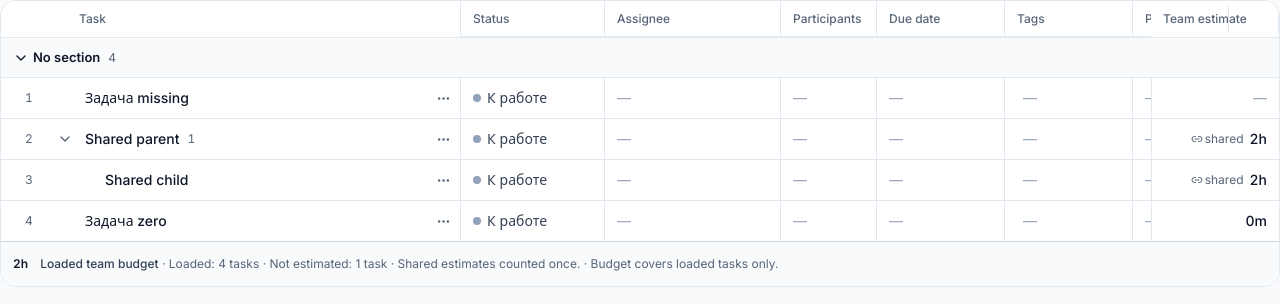
Test case: keeps deduplicated loaded scope, shared estimates counted once and missing estimates separate from known zero
The width and height of the screenshot is (1280, 304).
expect the text "2h" next to "Loaded team budget" is shown: met, box [13, 256, 28, 271]
expect the text "Loaded team budget" shows "Loaded: 4 tasks": met, box [162, 256, 259, 271]
Click the button named "Collapse subtasks of “Shared parent”" at {"x": 65, "y": 139}, box [53, 127, 77, 151]
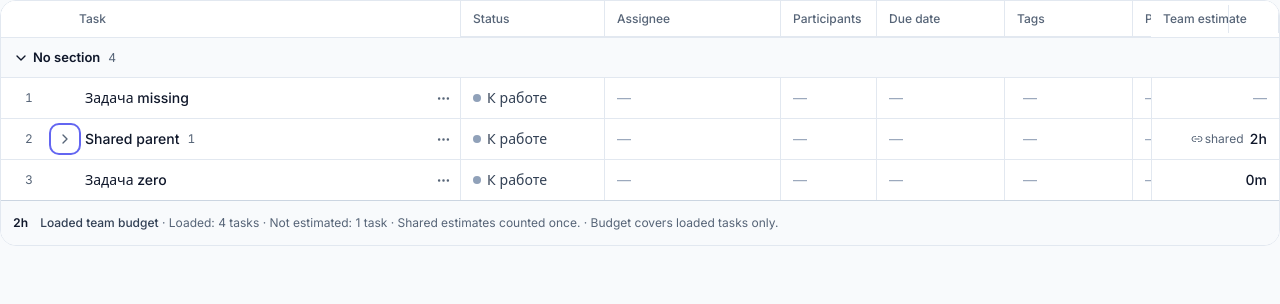
expect the button "Shared child" is gone: met
